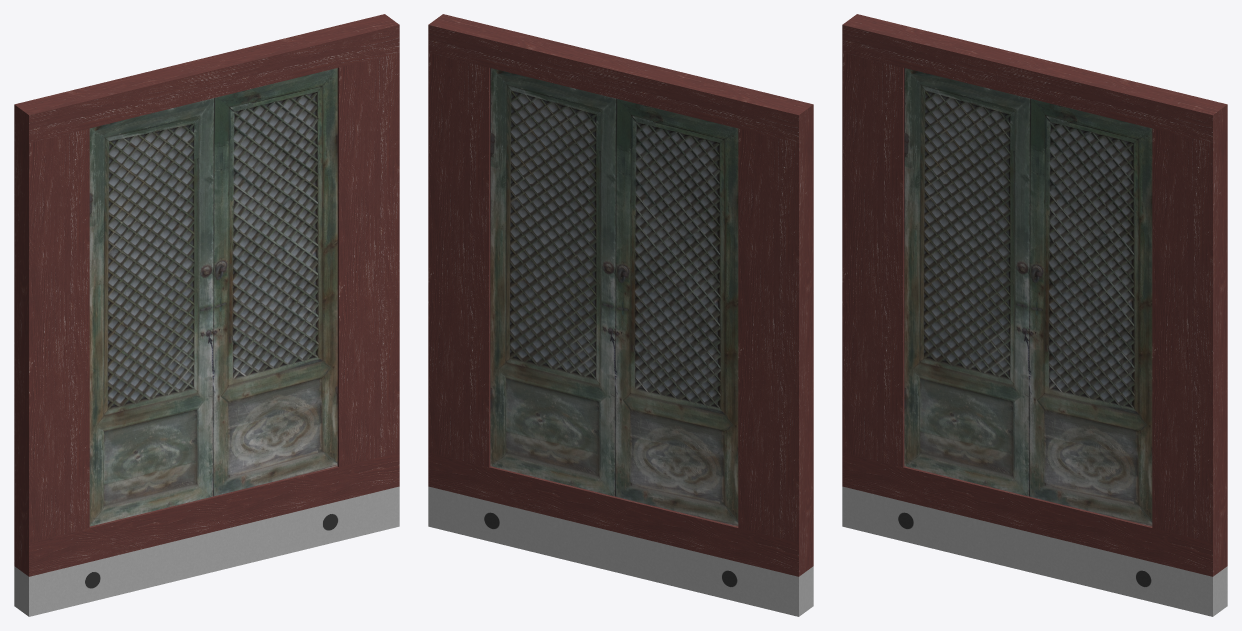
Rendered from SM_Geumsan_Mi_Wall_B.fbx.
The picture shows the model from 3 angles, left to right: view 1: azimuth 30°, elevation 25°; view 2: azimuth 150°, elevation 25°; view 3: azimuth 330°, elevation 25°; orthographic projection.
Parts seen in each view (by area): view 1: SM_Geumsan_Mi_Wall_B; view 2: SM_Geumsan_Mi_Wall_B; view 3: SM_Geumsan_Mi_Wall_B.
Part boxes in pixels (left/top/right/bottom): SM_Geumsan_Mi_Wall_B: left=14, top=14, right=399, bottom=616; SM_Geumsan_Mi_Wall_B: left=428, top=14, right=813, bottom=616; SM_Geumsan_Mi_Wall_B: left=842, top=14, right=1227, bottom=616.
Bounding box in the file's own units: 289 × 373 × 20.
